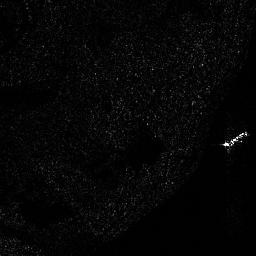ship: (223, 131, 248, 148)
